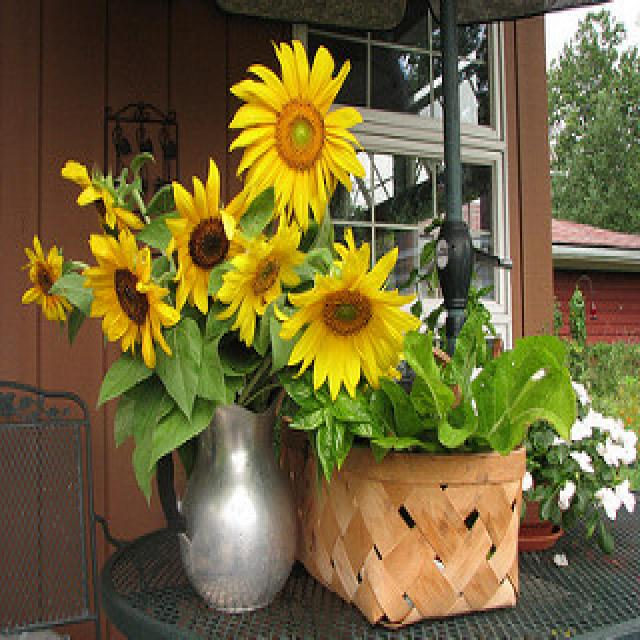sunflower: (226, 41, 357, 220), (298, 247, 407, 396), (86, 228, 176, 365), (170, 176, 236, 316), (232, 228, 299, 338), (19, 232, 85, 336), (61, 159, 146, 231)
